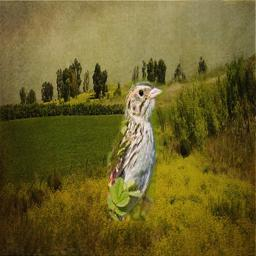Sparrow: (108, 75, 167, 221)
